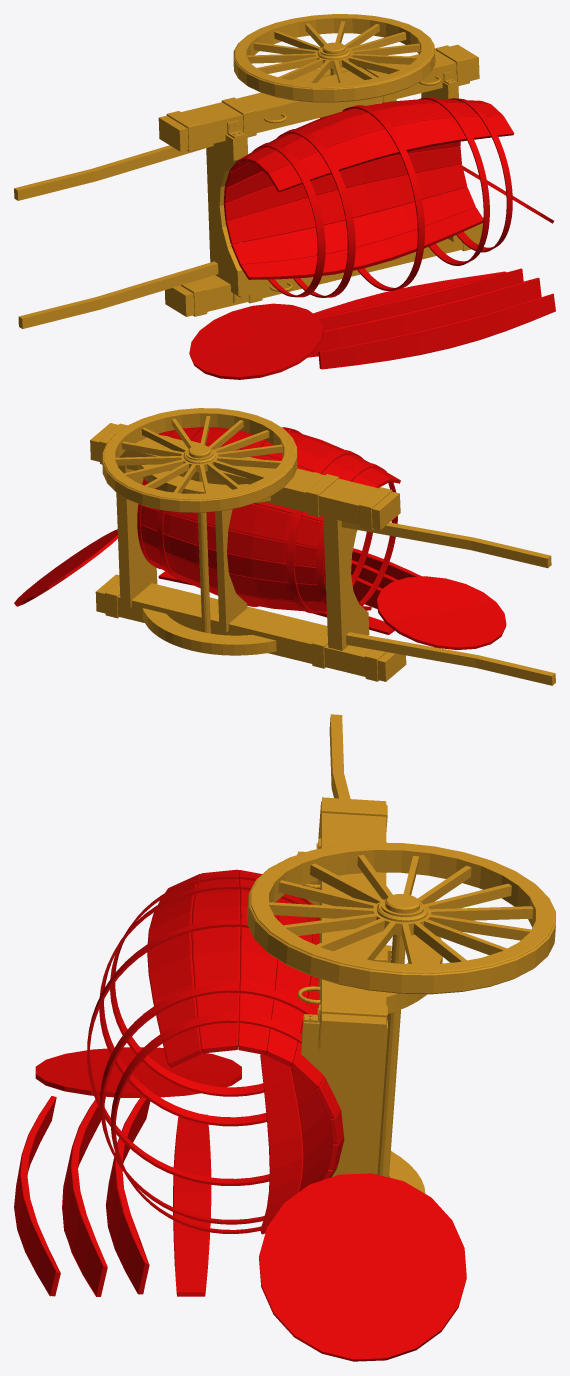
Rendered from SM_Carriage_18.fbx.
3 views of the same model, one above another, from view 1: azimuth 30°, elevation 25°; view 2: azimuth 150°, elevation 25°; view 3: azimuth 270°, elevation 25° (orthographic). The views are drawn at different scales.
Parts seen in each view (by area): view 1: SM_Carriage_18; view 2: SM_Carriage_18; view 3: SM_Carriage_18.
Boxes of the visible parts, bbox=[...] form: SM_Carriage_18: bbox=[14, 14, 555, 379]; SM_Carriage_18: bbox=[14, 408, 555, 685]; SM_Carriage_18: bbox=[14, 714, 555, 1361].
Bounding box in the file's own units: 365 × 210 × 138.
